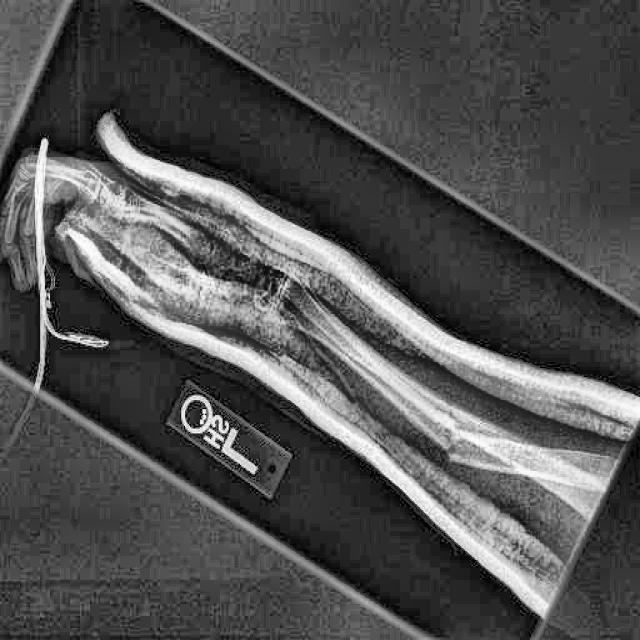forearm fracture: (411, 381, 523, 501)
